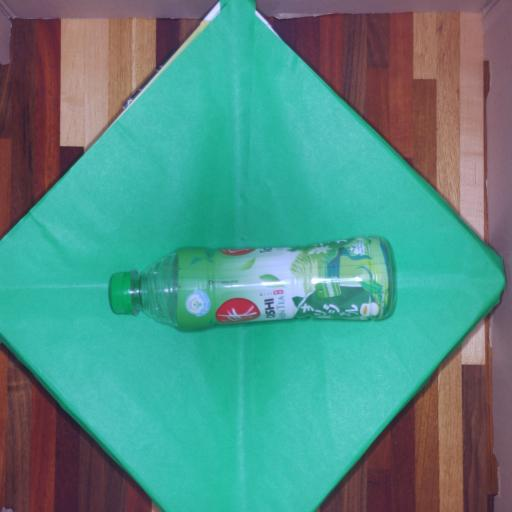bottle: (89, 219, 417, 339)
